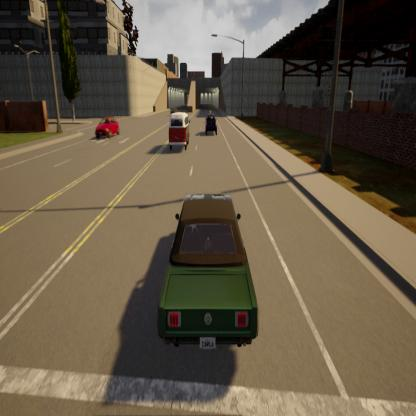Cars: (156, 194, 261, 354), (168, 112, 190, 152), (96, 114, 119, 138), (206, 114, 218, 135)
